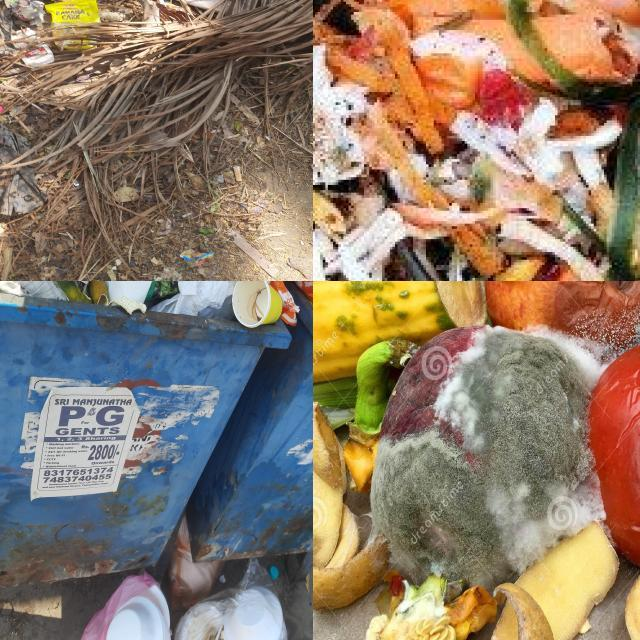Disposable: (174, 558, 287, 640), (81, 574, 171, 640), (169, 517, 225, 610)
Garbage: (313, 281, 640, 640), (313, 0, 640, 281), (78, 517, 300, 640)
Plastic: (269, 565, 279, 579)
Plastic_Bag: (155, 281, 238, 318)
Plastic_wraper: (46, 0, 101, 37), (6, 0, 44, 25), (145, 281, 179, 301), (54, 38, 96, 51), (65, 174, 80, 187)
Tetrapack: (21, 43, 54, 68), (11, 28, 37, 48)
